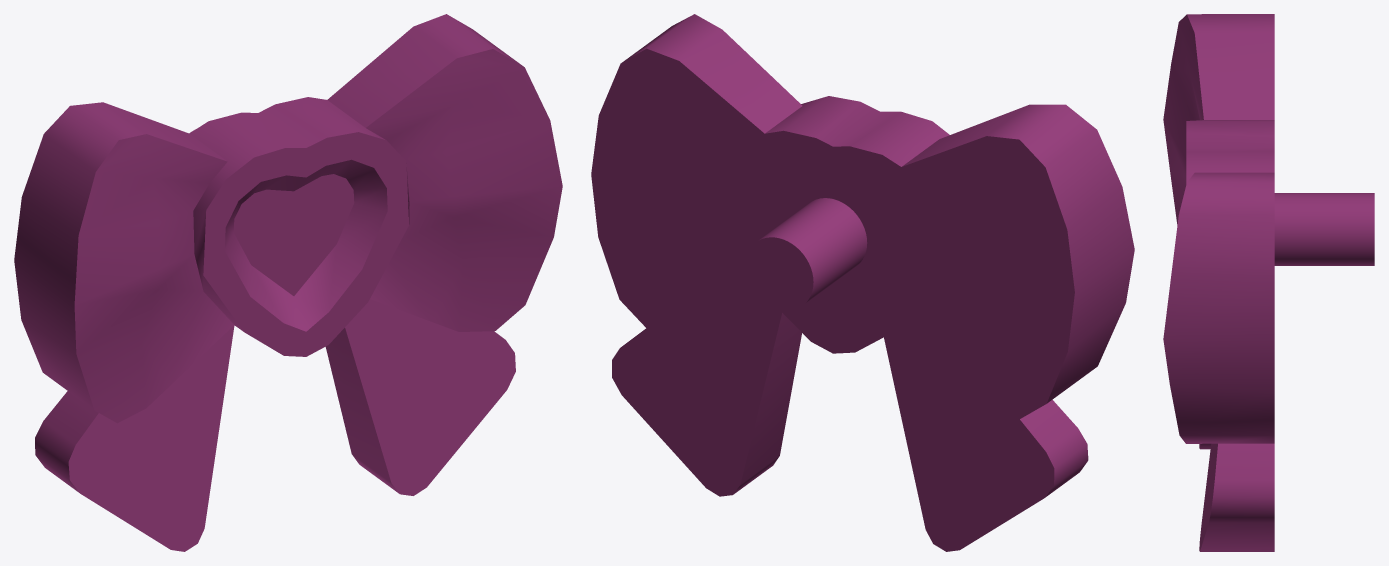
The model's file is ribbon.glb.
3 views of the same model, side by side, from view 1: azimuth 30°, elevation 25°; view 2: azimuth 150°, elevation 25°; view 3: azimuth 270°, elevation 25° (orthographic). The views are drawn at different scales.
Parts seen in each view (by area): view 1: 11618.dat; view 2: 11618.dat; view 3: 11618.dat.
Boxes of the visible parts, x1,y1,x2,y2 form: 11618.dat: [14, 14, 562, 551]; 11618.dat: [591, 14, 1134, 551]; 11618.dat: [1163, 14, 1374, 551].
Size of the model in its own units: 0.2814 by 0.2393 by 0.1143.
